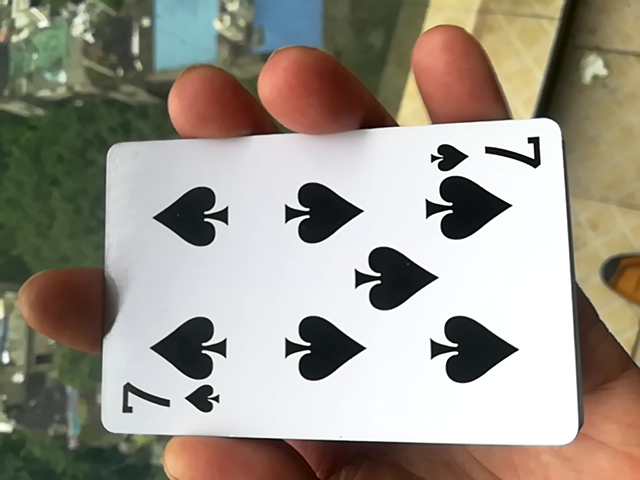ht 7: (88, 117, 578, 459)
